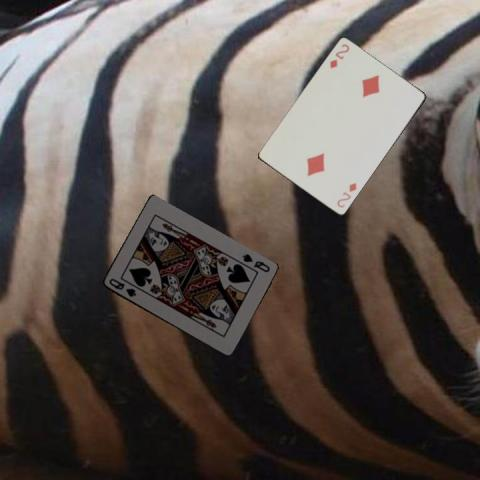2d: (334, 180, 358, 209), (326, 41, 350, 70)
Qs: (106, 275, 138, 299), (240, 251, 272, 274)
